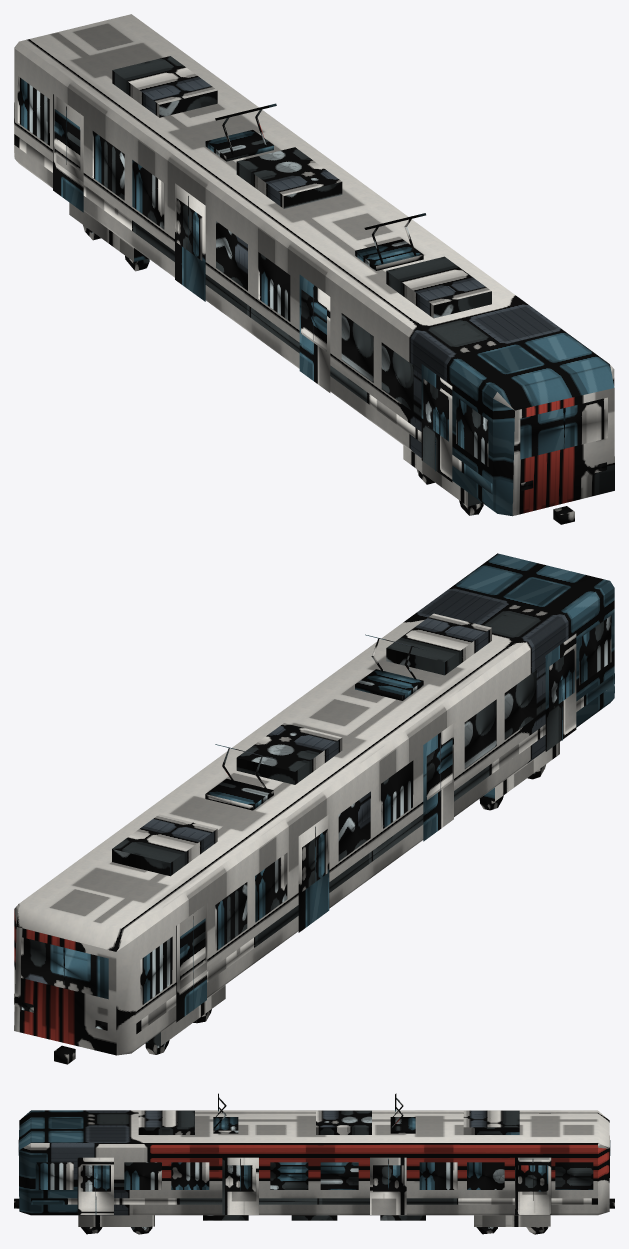
File: commuter_002.lod1.obj
3 renders of one model, top to bottom at view 1: azimuth 30°, elevation 25°; view 2: azimuth 150°, elevation 25°; view 3: azimuth 270°, elevation 25°, orthographic. The views are drawn at different scales.
Parts seen in each view (by area): view 1: commuter_002; view 2: commuter_002; view 3: commuter_002.
Part boxes in pixels (left/top/right/bottom): commuter_002: left=14, top=14, right=614, bottom=524; commuter_002: left=14, top=553, right=614, bottom=1064; commuter_002: left=14, top=1093, right=614, bottom=1234.
Bounding box in the file's own units: 2.94 × 4.58 × 20.35.
1 material, 1 textured.
